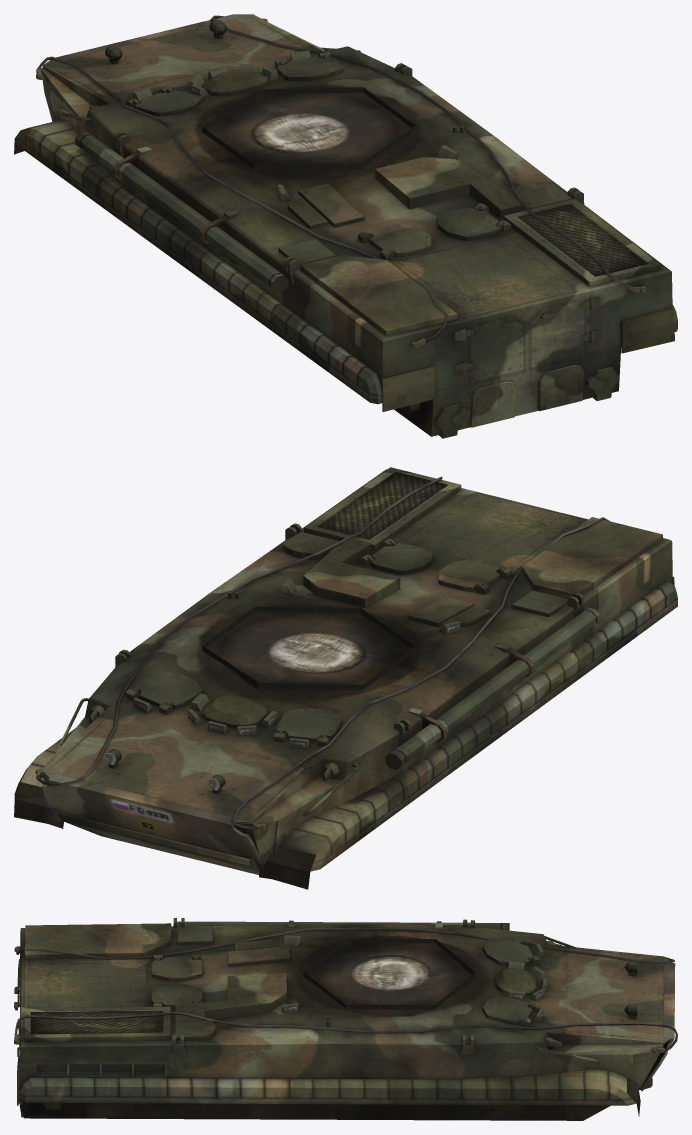
Rendered from Body.fbx.
The picture shows the model from 3 angles, top to bottom: view 1: azimuth 30°, elevation 25°; view 2: azimuth 150°, elevation 25°; view 3: azimuth 270°, elevation 25°; orthographic projection. The views are drawn at different scales.
Parts seen in each view (by area): view 1: Body; view 2: Body; view 3: Body.
Part boxes in pixels (x1,y1,x2,y2): Body: [14, 14, 677, 438]; Body: [14, 467, 677, 889]; Body: [14, 918, 677, 1120].
Size of the model in its own units: 3.8 by 1.51 by 8.09.
